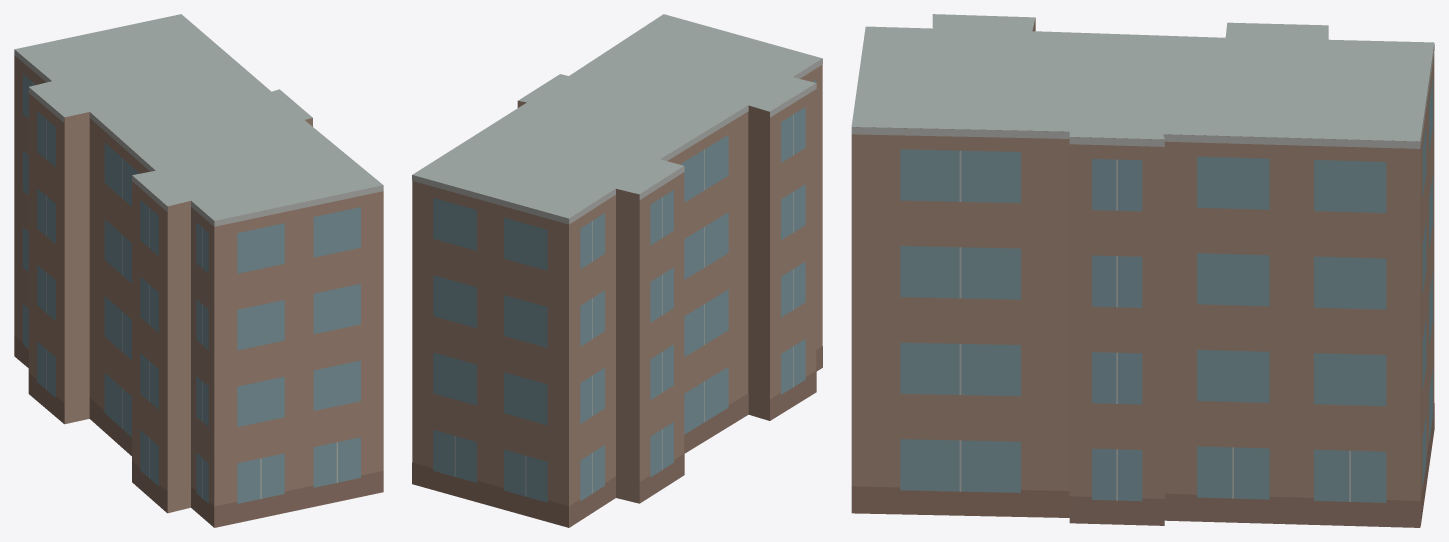
File: survey-upis-32897676.glb
3 renders of one model, left to right at view 1: azimuth 30°, elevation 25°; view 2: azimuth 150°, elevation 25°; view 3: azimuth 270°, elevation 25°, orthographic. The views are drawn at different scales.
Visible parts, largest first — view 1: survey-upis-32897676.tmp; view 2: survey-upis-32897676.tmp; view 3: survey-upis-32897676.tmp.
Part boxes in pixels (box(x1,y1,x2,y2)): survey-upis-32897676.tmp: box(14, 14, 383, 527); survey-upis-32897676.tmp: box(412, 14, 822, 527); survey-upis-32897676.tmp: box(851, 14, 1434, 527).
Size of the model in its own units: 9 by 12.7 by 17.38.
